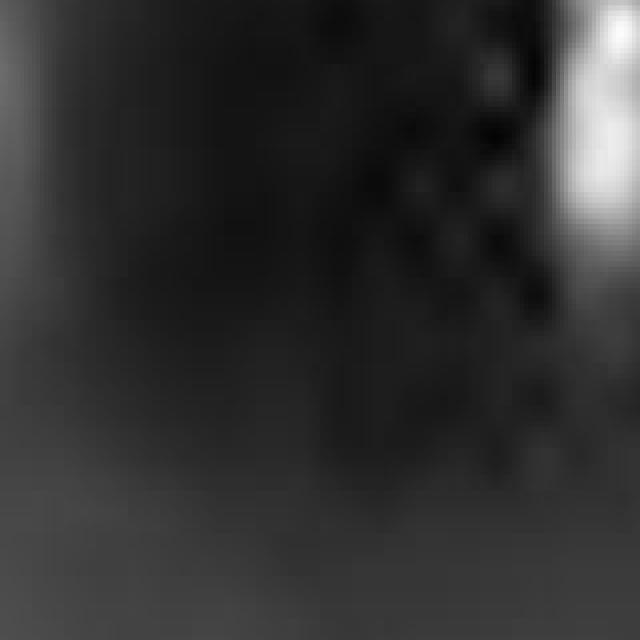person: (525, 1, 640, 348)
